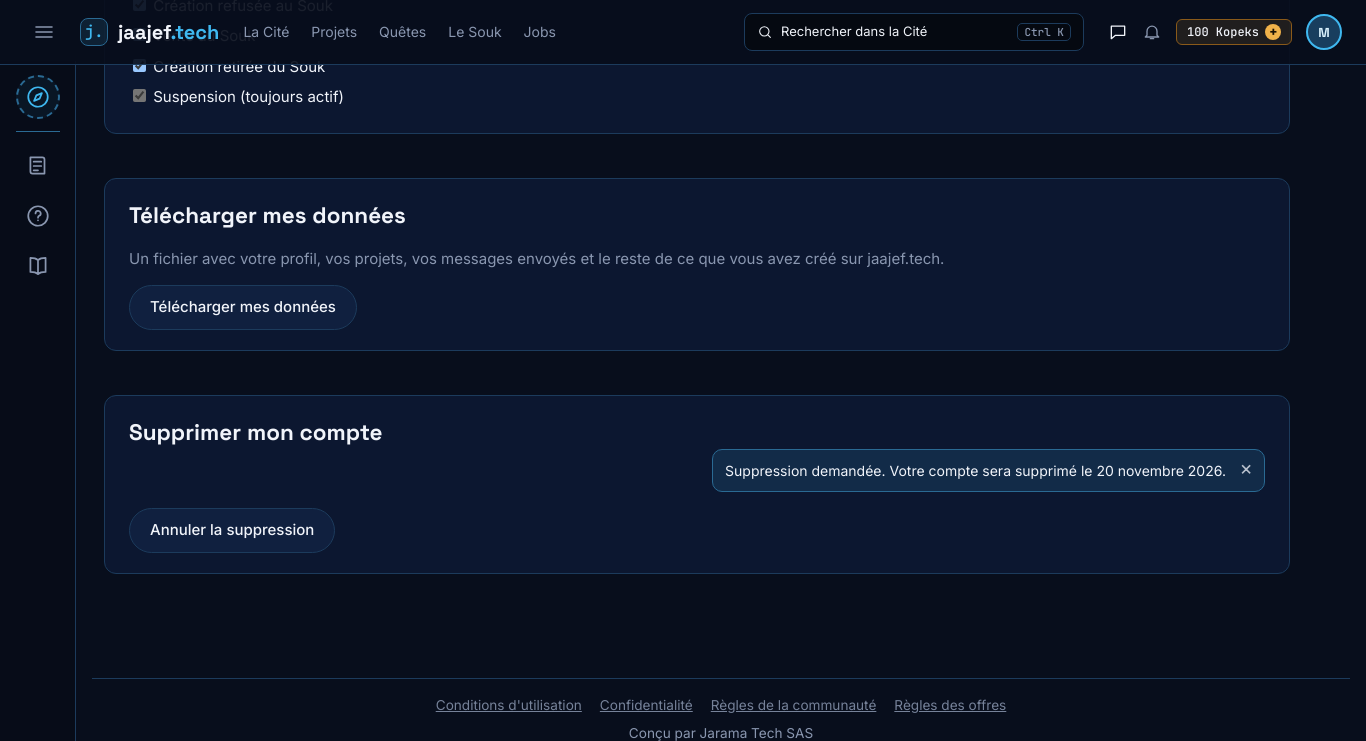
Test case: Settings › cancelling goes back to the normal state and says so
(page scrolled)
Click the button "Annuler la suppression".
click(232, 531)  # box [129,508,335,553]
(page scrolled)
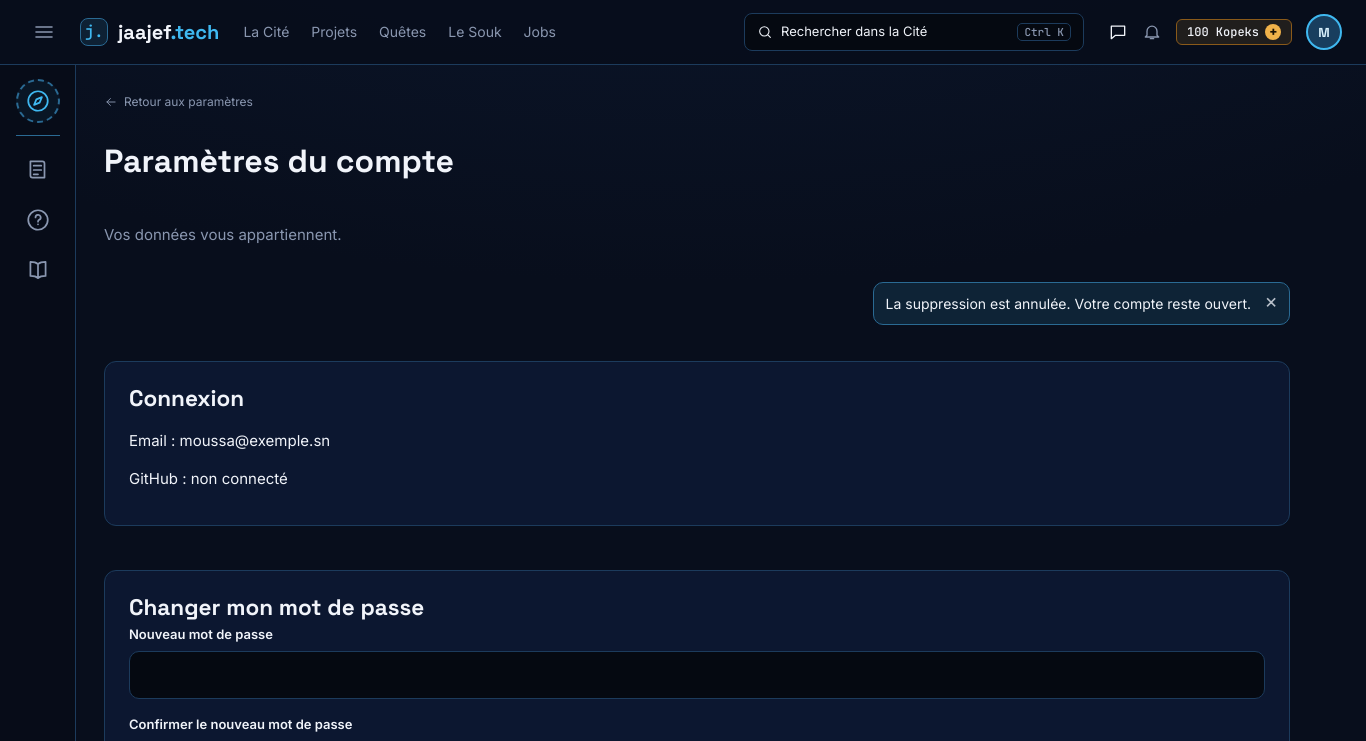
Expected: the message shows "annulée", [886,294,1251,312]
